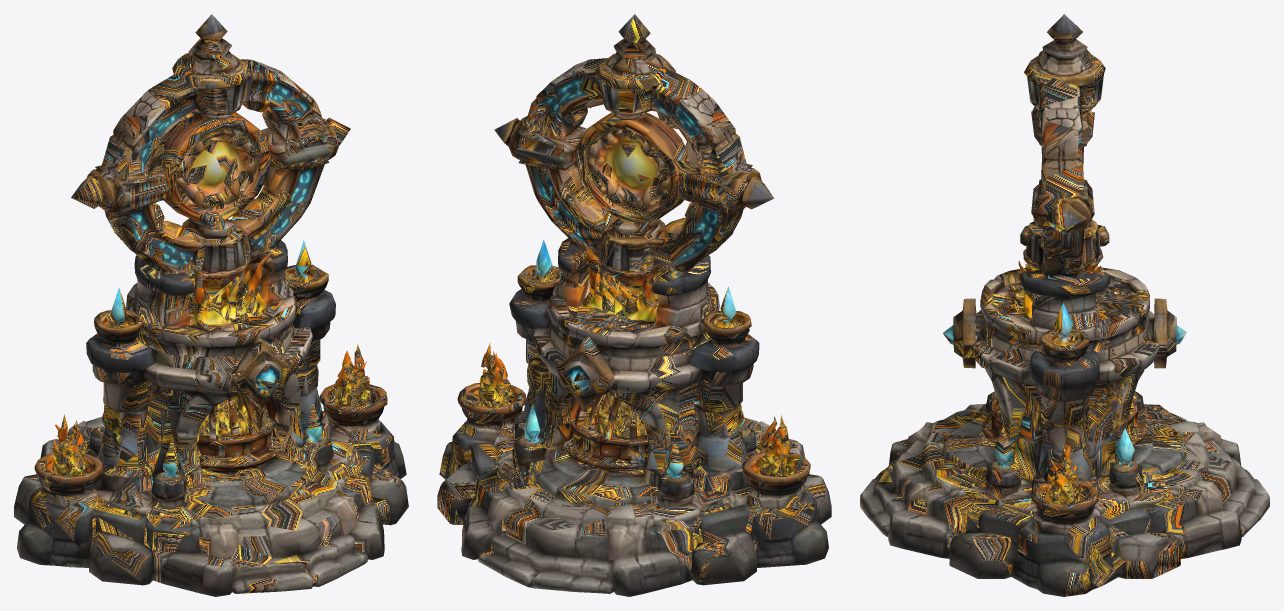
File: Arcane_Ember_Gate.glb
3 renders of one model, left to right at view 1: azimuth 30°, elevation 25°; view 2: azimuth 150°, elevation 25°; view 3: azimuth 270°, elevation 25°, orthographic.
Visible parts, largest first — view 1: Arcane_Ember_Gate; view 2: Arcane_Ember_Gate; view 3: Arcane_Ember_Gate.
Boxes of the visible parts, x1,y1,x2,y2 form: Arcane_Ember_Gate: (14, 14, 408, 596); Arcane_Ember_Gate: (437, 14, 831, 596); Arcane_Ember_Gate: (860, 14, 1269, 596).
Bounding box in the file's own units: 1.52 × 1.9 × 1.44.
1 material, 1 textured.
